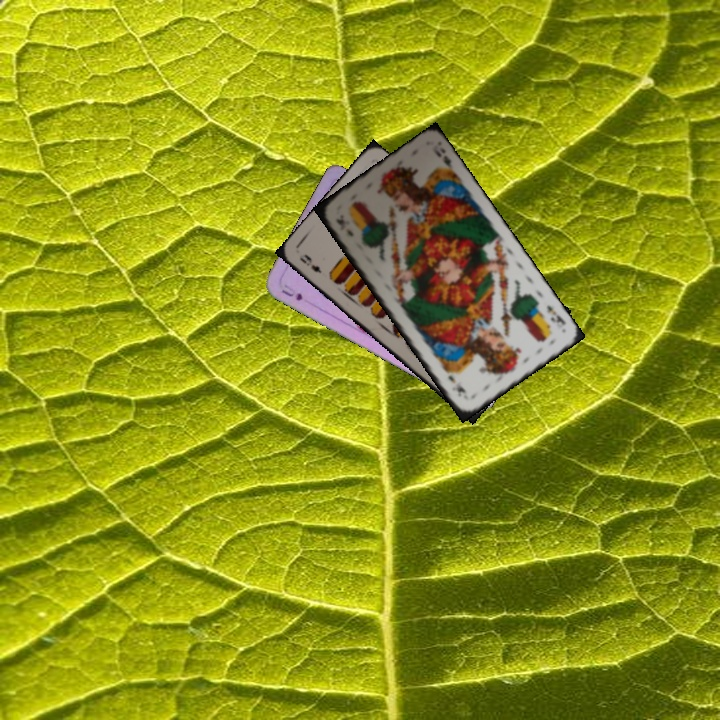E9: (295, 250, 324, 276)
EK: (542, 301, 569, 327), (332, 214, 356, 239)
SU: (278, 280, 305, 304)
